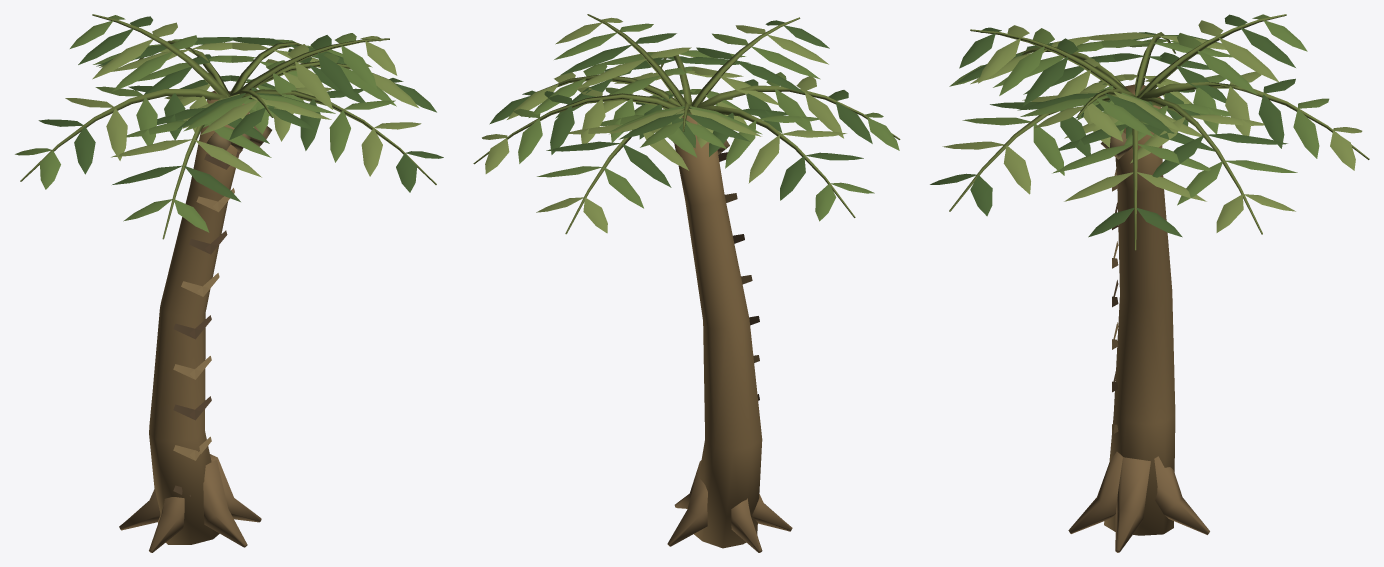
File: woodland_palm_sahrun.hi.glb
3 renders of one model, left to right at view 1: azimuth 30°, elevation 25°; view 2: azimuth 150°, elevation 25°; view 3: azimuth 270°, elevation 25°, orthographic. The views are drawn at different scales.
Parts seen in each view (by area): view 1: body; view 2: body; view 3: body.
Part boxes in pixels (x1,y1,x2,y2): body: [15, 14, 443, 552]; body: [473, 14, 900, 552]; body: [930, 14, 1369, 552].
Size of the model in its own units: 2.19 by 2.59 by 2.07.
